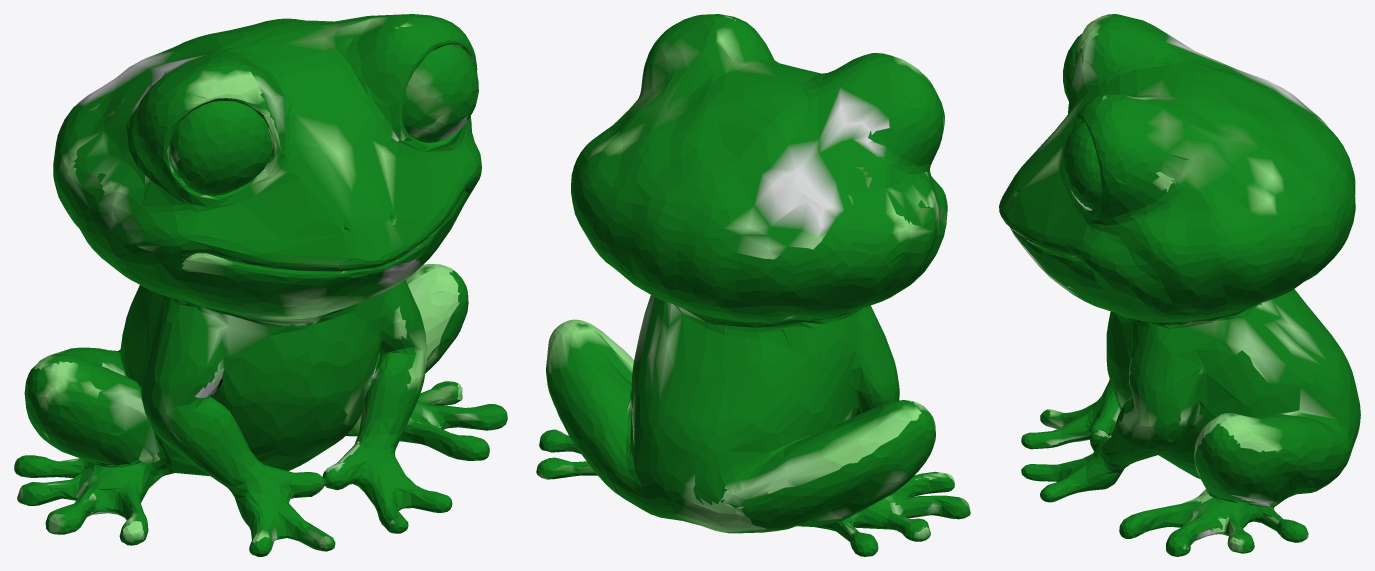
Rendered from mrfrog.glb.
The picture shows the model from 3 angles, left to right: view 1: azimuth 30°, elevation 25°; view 2: azimuth 150°, elevation 25°; view 3: azimuth 270°, elevation 25°; orthographic projection. The views are drawn at different scales.
Visible parts, largest first — view 1: mesh_node; view 2: mesh_node; view 3: mesh_node.
Boxes of the visible parts, left/top/right/bottom form: mesh_node: left=14, top=14, right=507, bottom=556; mesh_node: left=536, top=14, right=970, bottom=556; mesh_node: left=999, top=14, right=1360, bottom=556.
Bounding box in the file's own units: 1.9 × 1.84 × 1.49.
